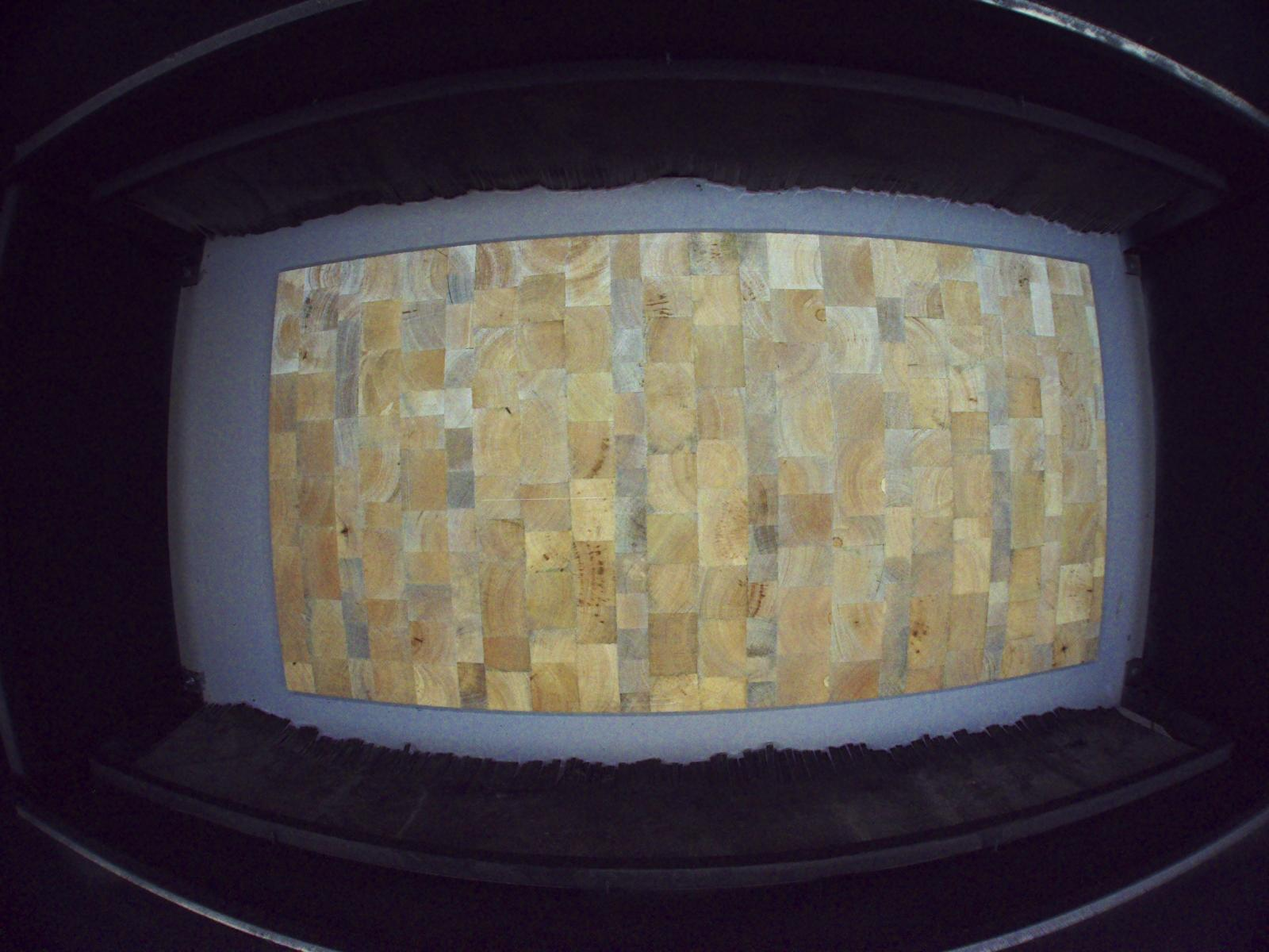sheck_ecuatoriano: (334, 511, 354, 551)
